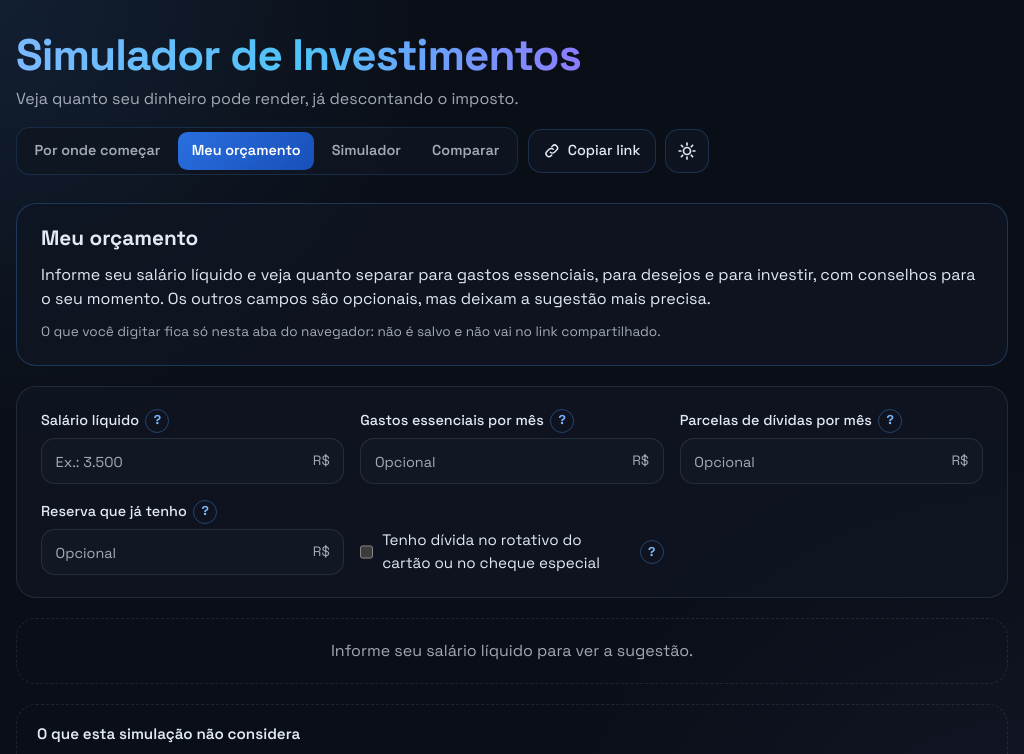
it: com a reserva completa, simula um objetivo de longo prazo
This screenshot has width=1024, height=754.
Type "5.000" into the field labelled "Salário líquido" at (177, 461), box left=42, top=440, right=313, bottom=483
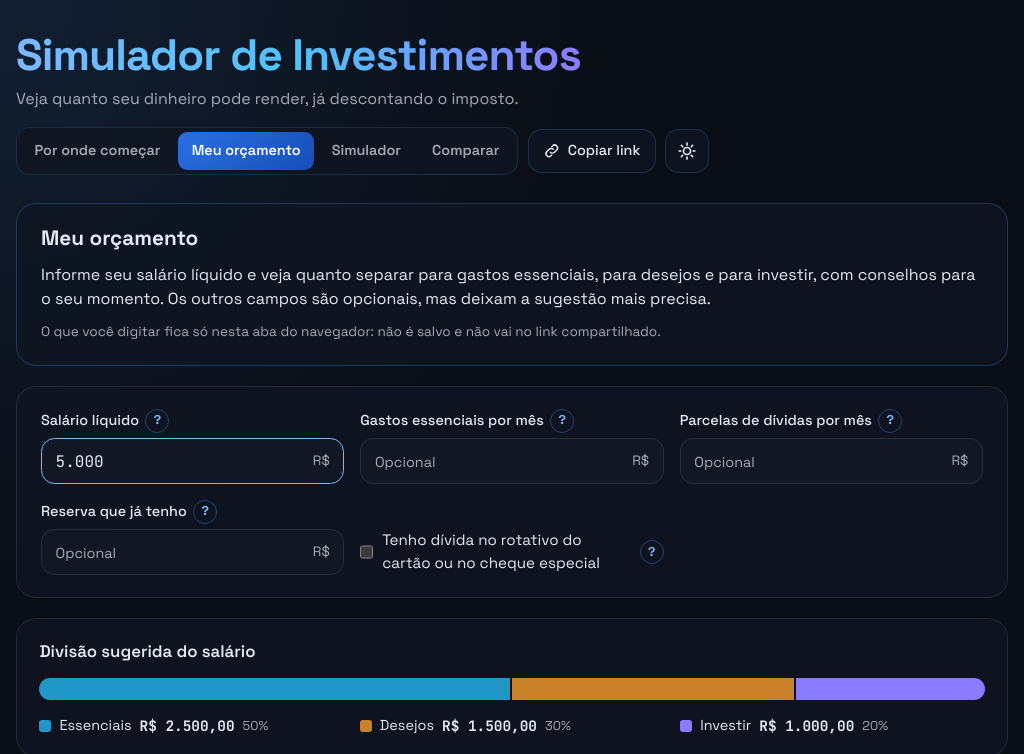
Type "2.000" into the field labelled "Gastos essenciais por mês" at (497, 461), box left=361, top=440, right=632, bottom=483
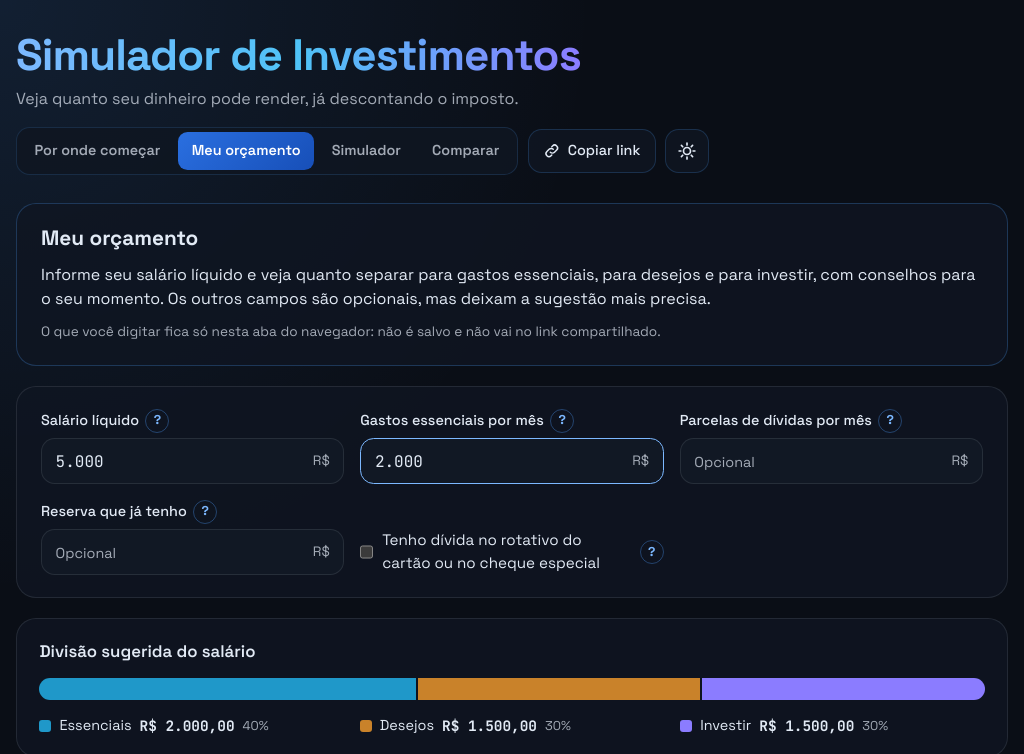
Type "20.000" into the field labelled "Reserva que já tenho" at (177, 552), box left=42, top=530, right=313, bottom=574
(page scrolled)
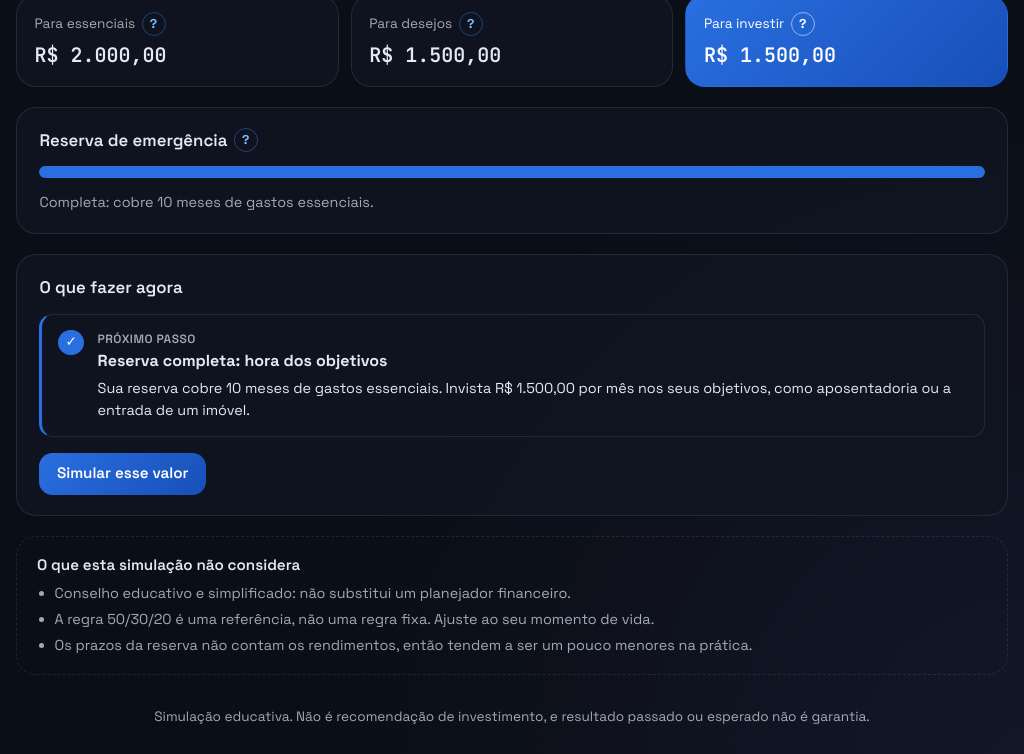
Expected: the heading "Reserva completa: hora dos objetivos" is shown, left=98, top=350, right=388, bottom=371
Click the button "Simular esse valor" at (123, 474), box left=39, top=452, right=206, bottom=494
(page scrolled)
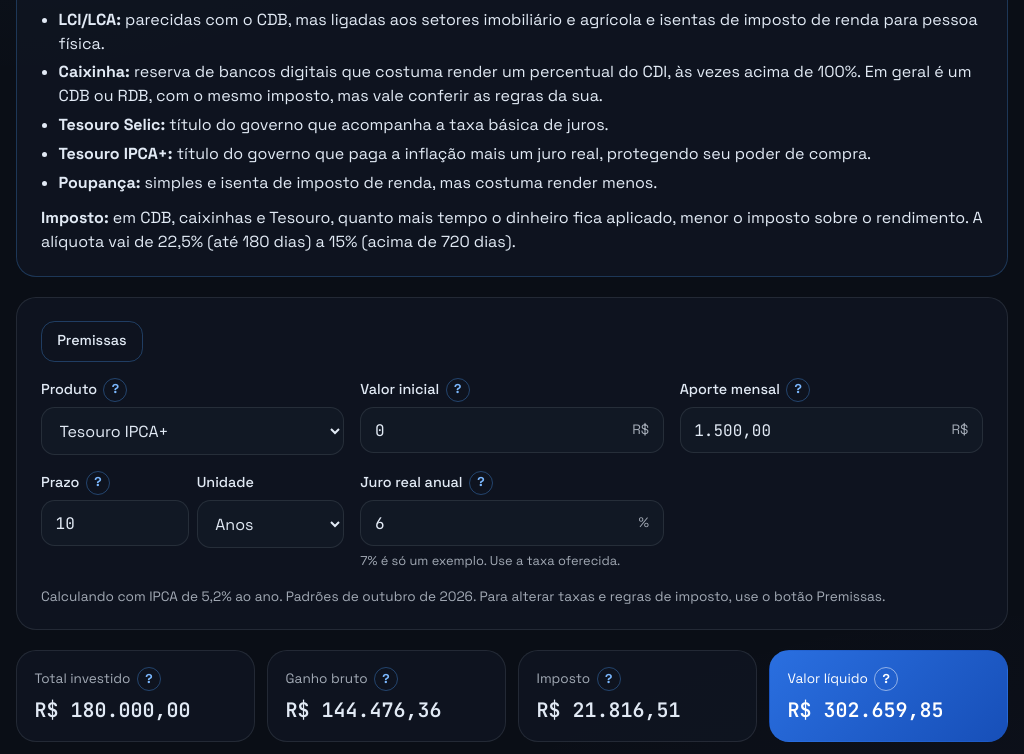
Expected: the dropdown labelled "Produto" shows "Tesouro IPCA+", left=41, top=408, right=344, bottom=455
